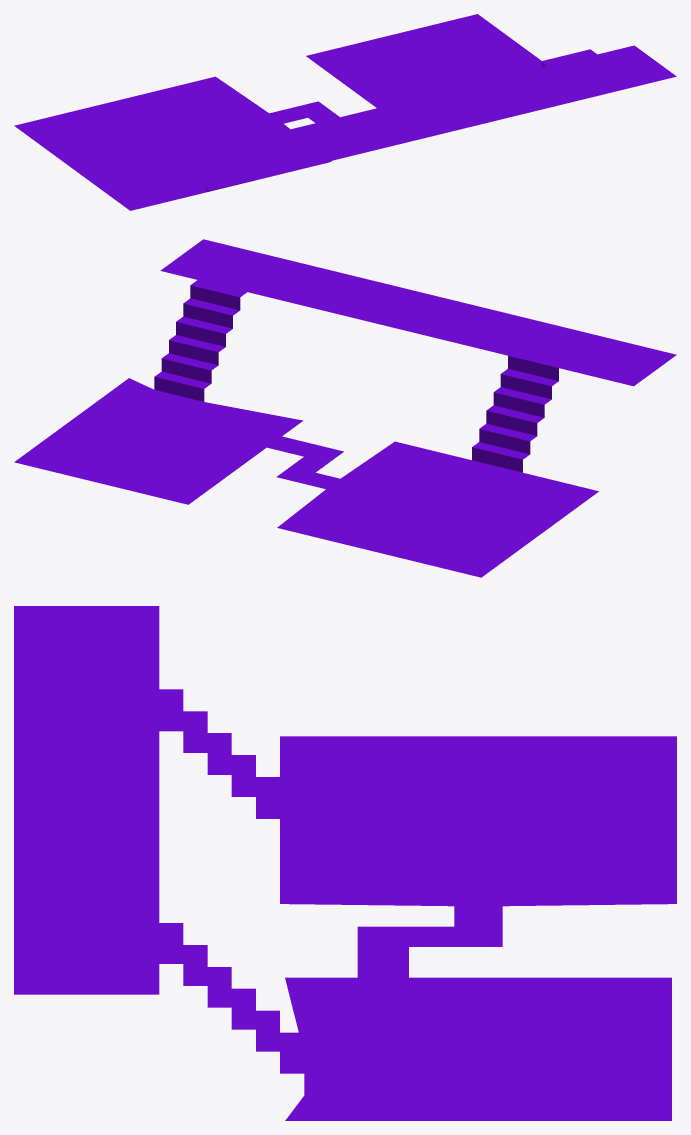
The model's file is test_level.fbx.
3 renders of one model, top to bottom at view 1: azimuth 30°, elevation 25°; view 2: azimuth 150°, elevation 25°; view 3: azimuth 270°, elevation 25°, orthographic. The views are drawn at different scales.
Parts seen in each view (by area): view 1: Plane; view 2: Plane; view 3: Plane.
Part boxes in pixels (x1=…): Plane: x1=14, y1=14, x2=676, y2=210; Plane: x1=14, y1=239, x2=676, y2=577; Plane: x1=14, y1=606, x2=676, y2=1120.
Size of the model in its own units: 3812 by 600 by 2740.
